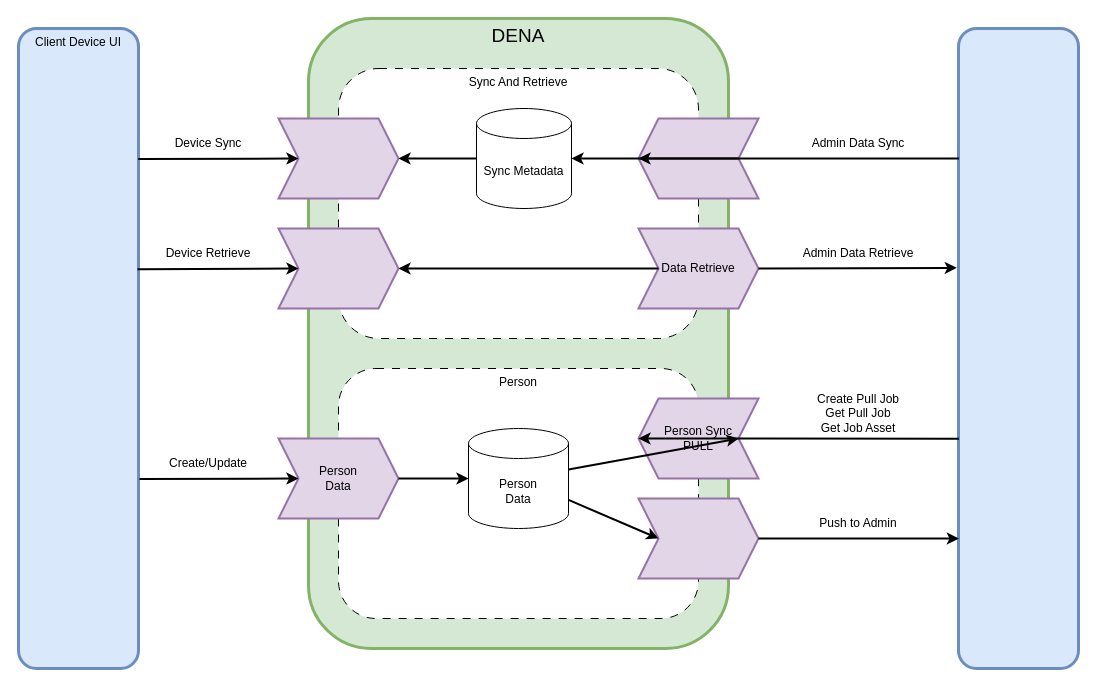
Some shapes in this 1097 by 687 pixel diagram are drawn without their labels. The centre of each missing label's shape, as x and y in pixels:
"Administration" goes at (1018,348).
"Data Sync" goes at (698,158).
"Person Sync PUSH" goes at (698,538).
"Retrieve" goes at (338,268).
"Sync" goes at (338,158).
